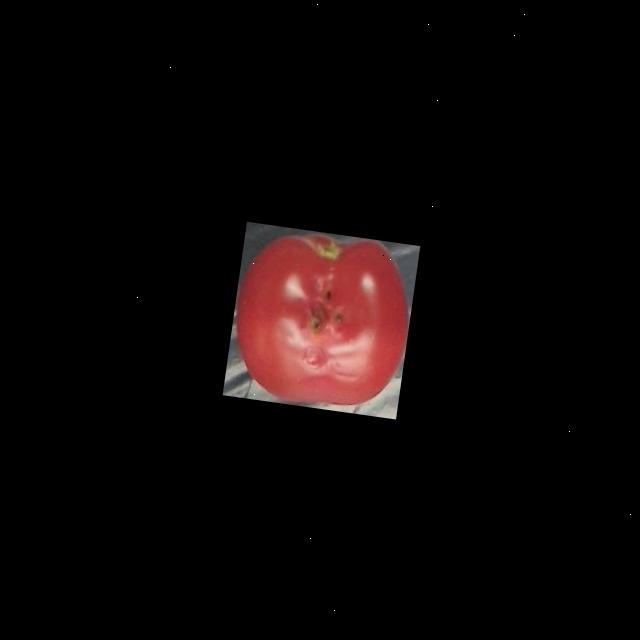tomato: (221, 221, 418, 419)
